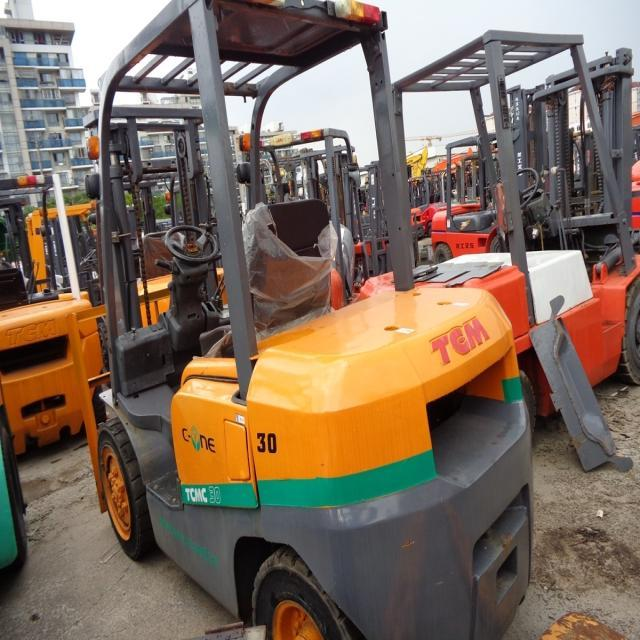forklift: (74, 7, 542, 623)
